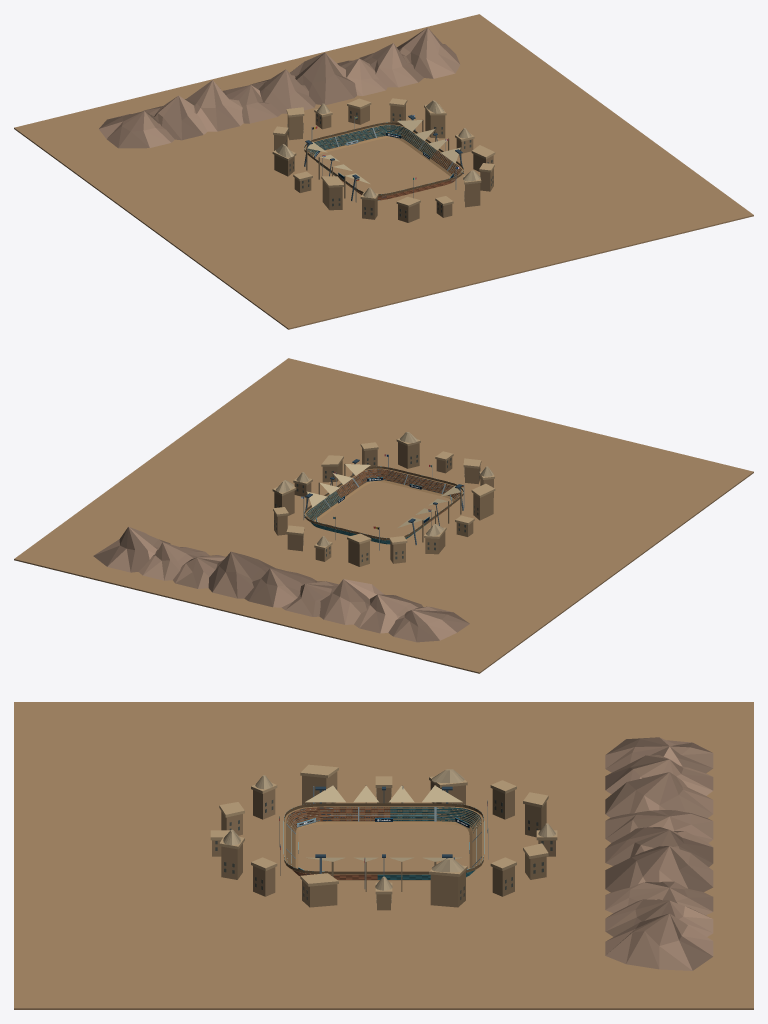
The model's file is dunes-v2.glb.
The picture shows the model from 3 angles, top to bottom: view 1: azimuth 30°, elevation 25°; view 2: azimuth 150°, elevation 25°; view 3: azimuth 270°, elevation 25°; orthographic projection. The views are drawn at different scales.
Visible parts, largest first — view 1: Arena architecture / dunes; view 2: Arena architecture / dunes; view 3: Arena architecture / dunes.
Boxes of the visible parts, <box> form: Arena architecture / dunes: <box>14,14,753,329</box>; Arena architecture / dunes: <box>14,358,753,673</box>; Arena architecture / dunes: <box>14,702,753,1009</box>.
Size of the model in its own units: 61300 by 4410 by 62600.
Materials: 4 (2 with a texture image).
